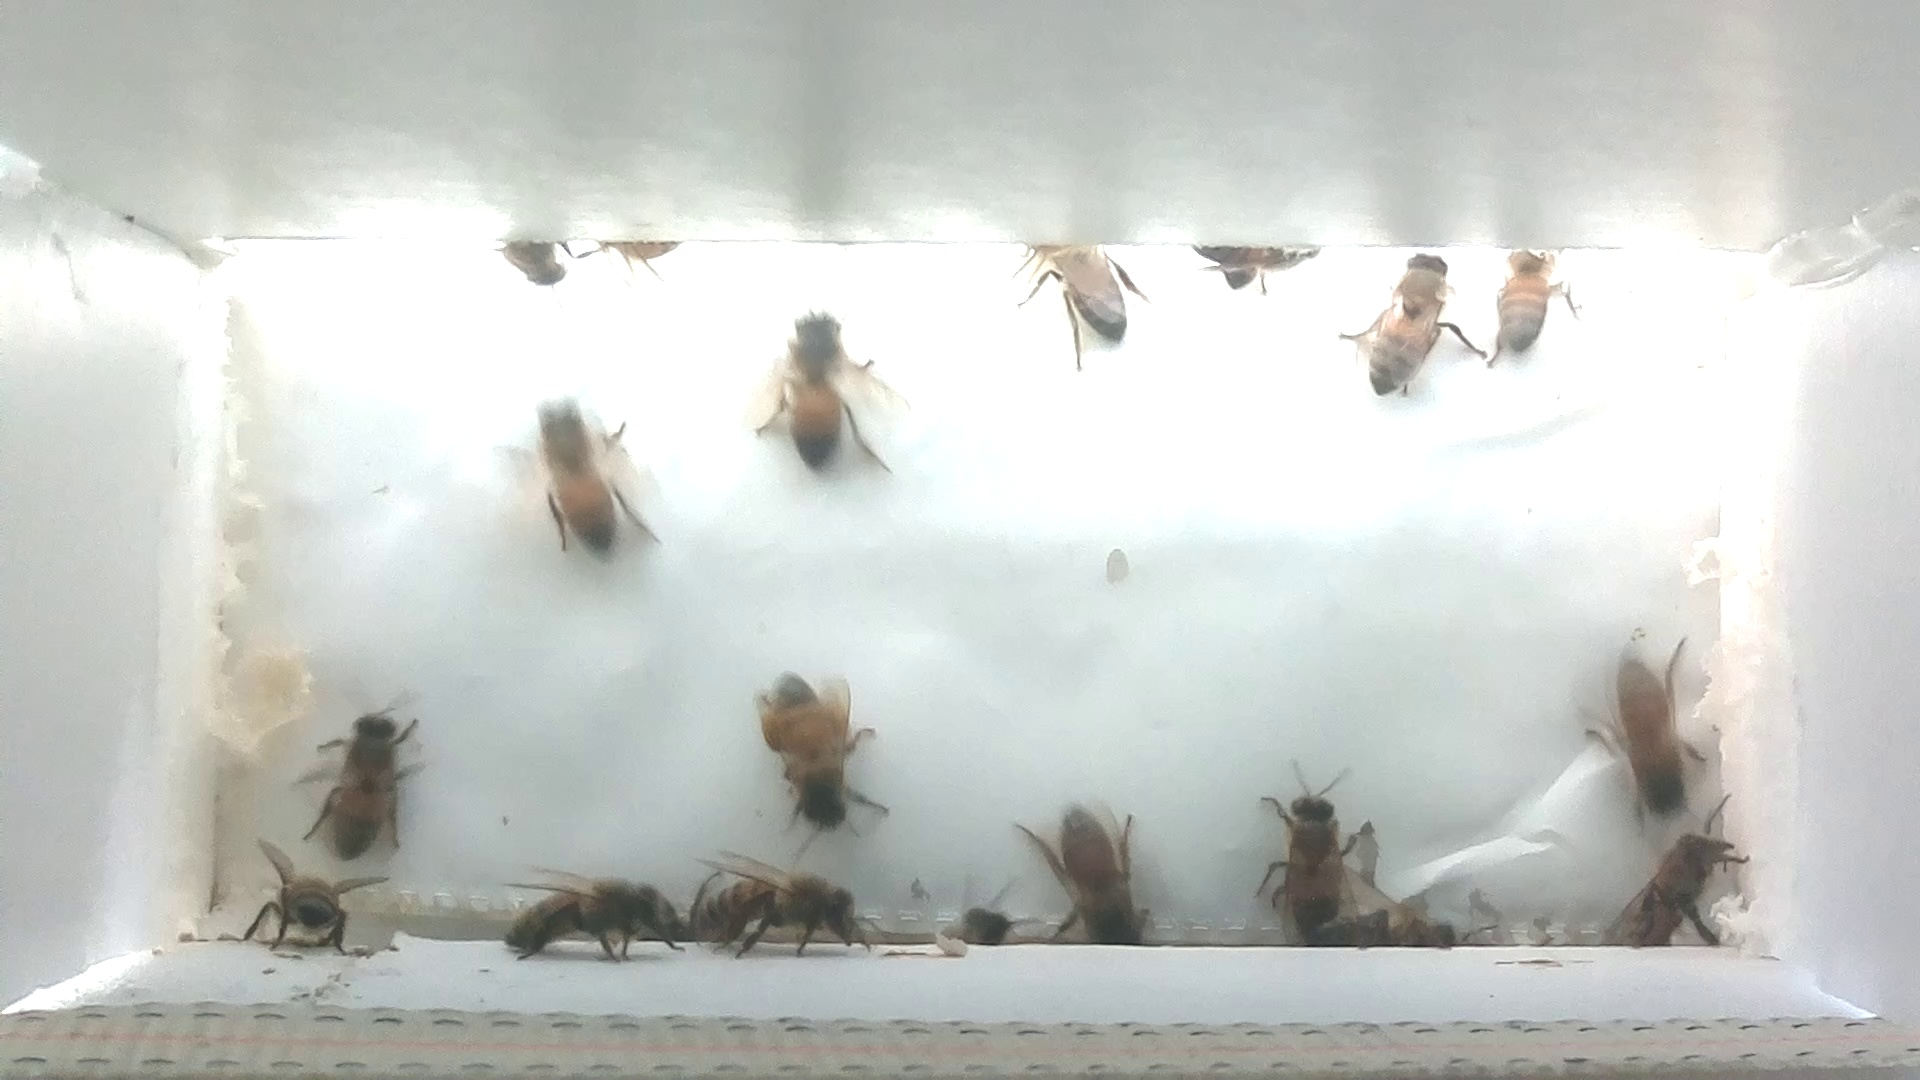bee: (742, 666, 905, 849), (498, 388, 669, 560), (749, 299, 899, 491), (1573, 641, 1724, 825), (1011, 796, 1164, 963), (481, 845, 680, 971), (1605, 810, 1755, 971), (1244, 766, 1371, 951), (1338, 247, 1480, 409), (695, 853, 869, 976), (305, 702, 434, 865), (1013, 239, 1159, 375), (248, 833, 389, 964), (1480, 231, 1589, 382), (1185, 231, 1329, 306), (1344, 895, 1478, 971), (489, 228, 585, 306), (593, 229, 696, 290)
